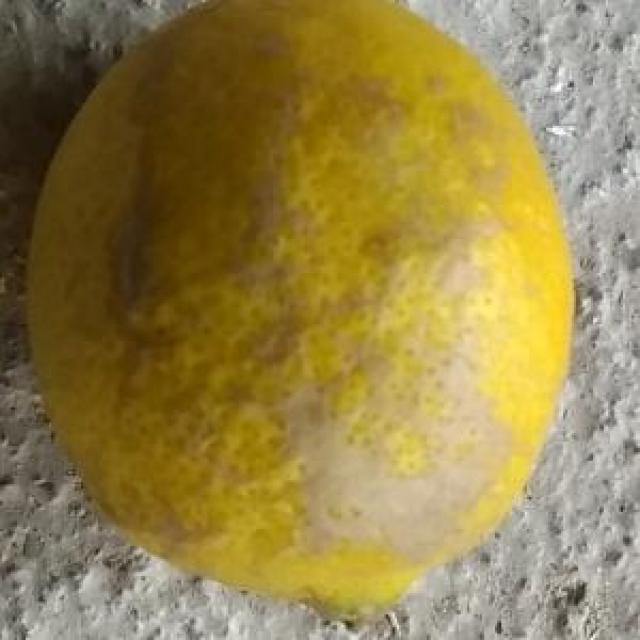lemon: (20, 1, 588, 628)
